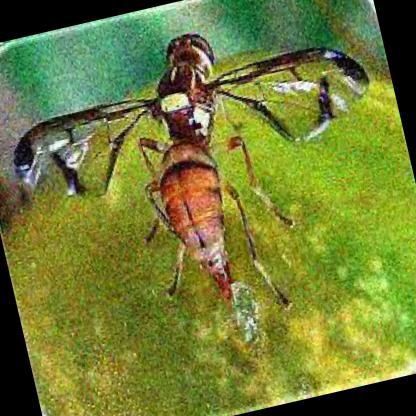fruit fly: (16, 35, 369, 313)
